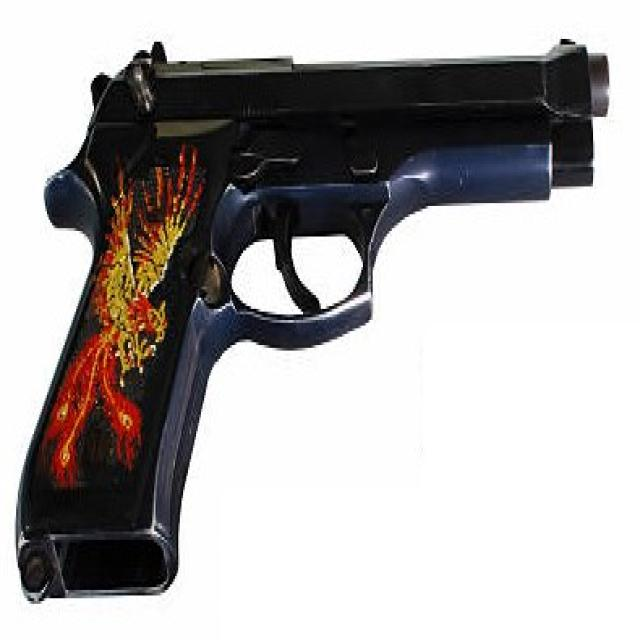pistol: (8, 23, 625, 623)
